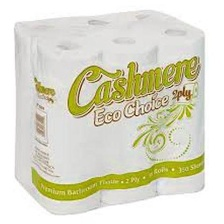tissue: (7, 4, 212, 220)
